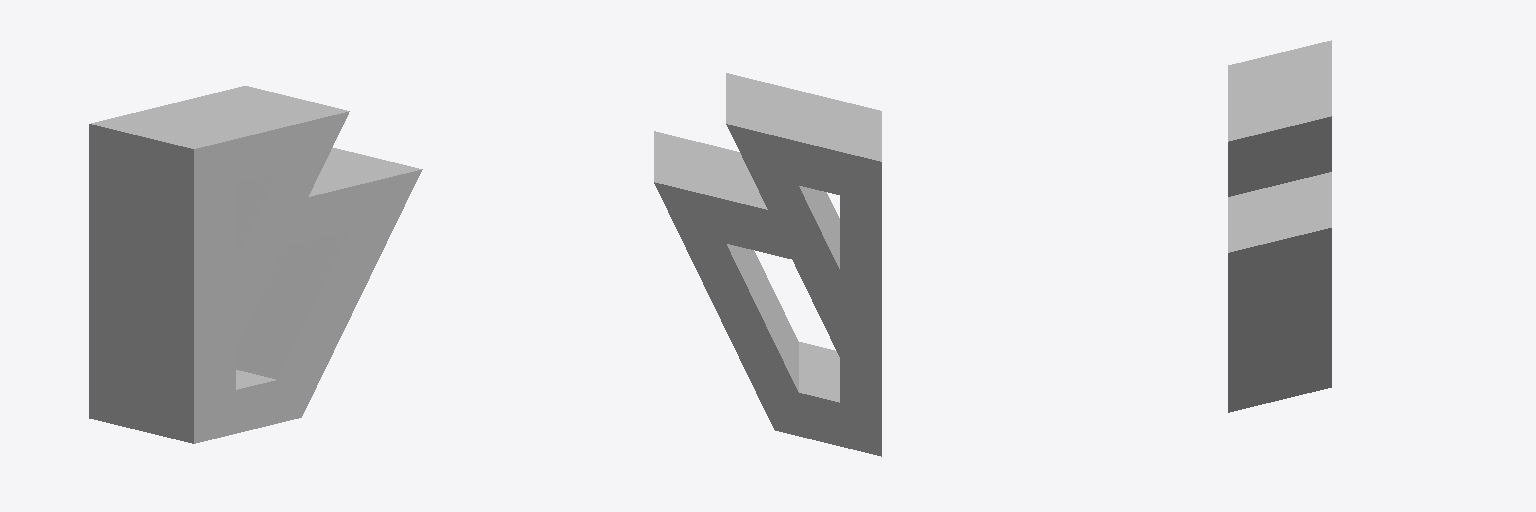
The model's file is Project Name.obj.
The picture shows the model from 3 angles: view 1: azimuth 30°, elevation 25°; view 2: azimuth 150°, elevation 25°; view 3: azimuth 270°, elevation 25°; orthographic projection.
Parts seen in each view (by area): view 1: 003_mesh0_mesh, 014_mesh0_mesh, 009_mesh0_mesh, 015_mesh0_mesh, 007_mesh0_mesh, 002_mesh0_mesh; view 2: 004_mesh0_mesh, 009_mesh0_mesh, 007_mesh0_mesh, 015_mesh0_mesh, 010_mesh0_mesh, 002_mesh0_mesh; view 3: 006_mesh0_mesh, 009_mesh0_mesh, 007_mesh0_mesh, 008_mesh0_mesh.
Boxes of the visible parts, x1,y1,x2,y2 form: 003_mesh0_mesh: [194, 111, 422, 443]; 014_mesh0_mesh: [89, 124, 193, 443]; 009_mesh0_mesh: [91, 86, 348, 148]; 015_mesh0_mesh: [236, 231, 349, 379]; 007_mesh0_mesh: [309, 147, 421, 196]; 002_mesh0_mesh: [236, 173, 276, 256]; 004_mesh0_mesh: [654, 124, 881, 456]; 009_mesh0_mesh: [726, 73, 881, 161]; 007_mesh0_mesh: [654, 131, 767, 209]; 015_mesh0_mesh: [727, 244, 798, 391]; 010_mesh0_mesh: [799, 342, 839, 402]; 002_mesh0_mesh: [799, 186, 839, 268]; 006_mesh0_mesh: [1228, 228, 1331, 412]; 009_mesh0_mesh: [1228, 40, 1331, 141]; 007_mesh0_mesh: [1228, 172, 1331, 252]; 008_mesh0_mesh: [1228, 116, 1331, 196].
Bounding box in the file's own units: 67.14 × 67.32 × 21.65.